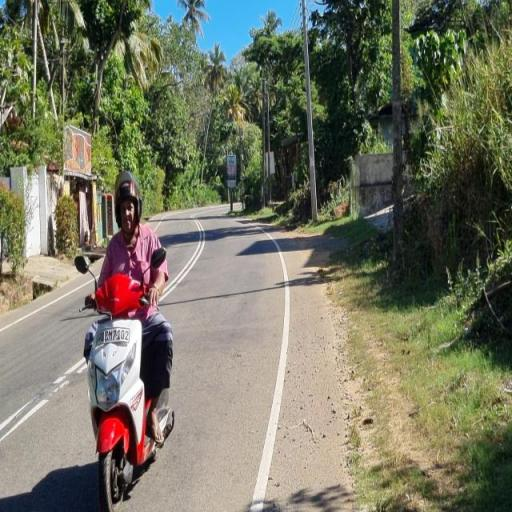double_white_line: (52, 354, 87, 392)
